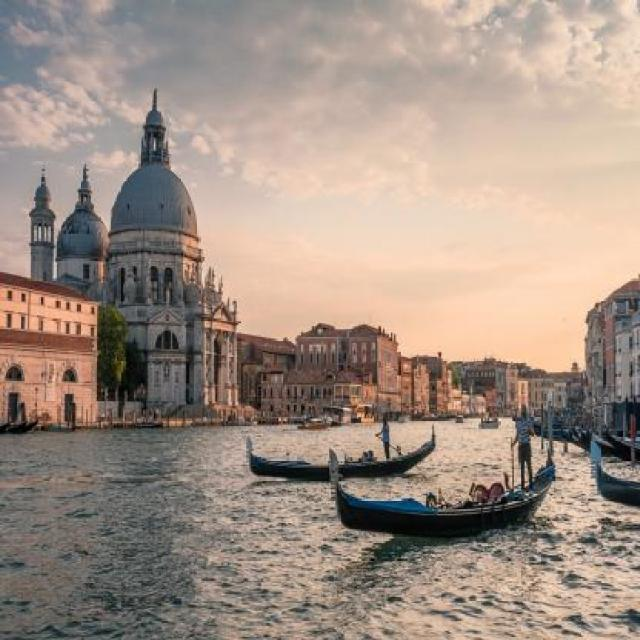ship: (335, 455, 556, 540), (243, 424, 435, 478), (296, 414, 332, 428)
